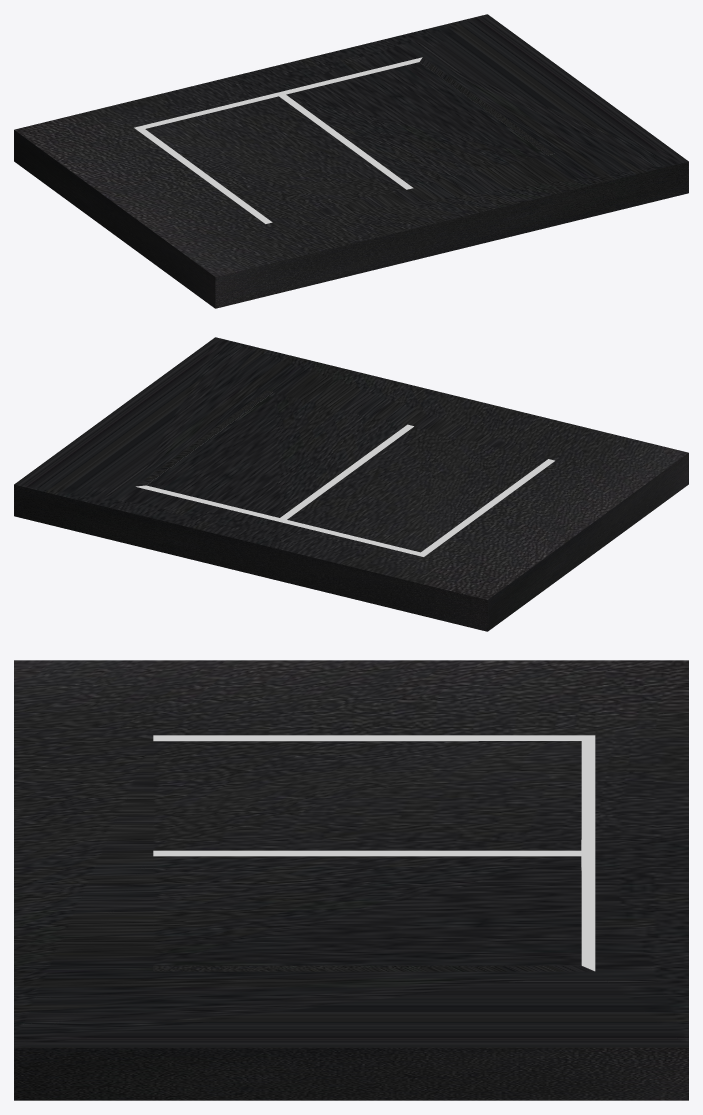
Rendered from StraightBox.fbx.
The picture shows the model from 3 angles, top to bottom: view 1: azimuth 30°, elevation 25°; view 2: azimuth 150°, elevation 25°; view 3: azimuth 270°, elevation 25°; orthographic projection. The views are drawn at different scales.
Visible parts, largest first — view 1: Box, ToSubstract; view 2: Box, ToSubstract; view 3: Box, ToSubstract.
Boxes of the visible parts, <box> form: Box: <box>14,14,688,308</box>; ToSubstract: <box>134,57,554,224</box>; Box: <box>14,337,688,631</box>; ToSubstract: <box>135,390,554,557</box>; Box: <box>14,660,688,1100</box>; ToSubstract: <box>153,735,595,971</box>.
Bounding box in the file's own units: 202 × 12.93 × 148.
